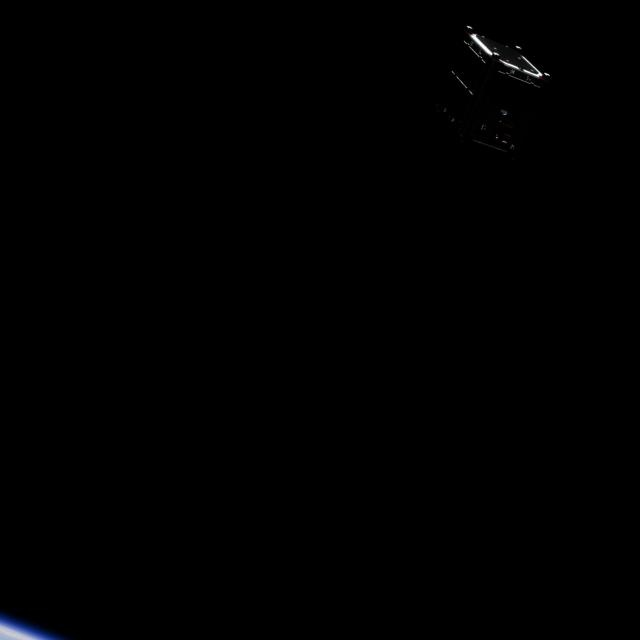satellite: (436, 28, 557, 154)
